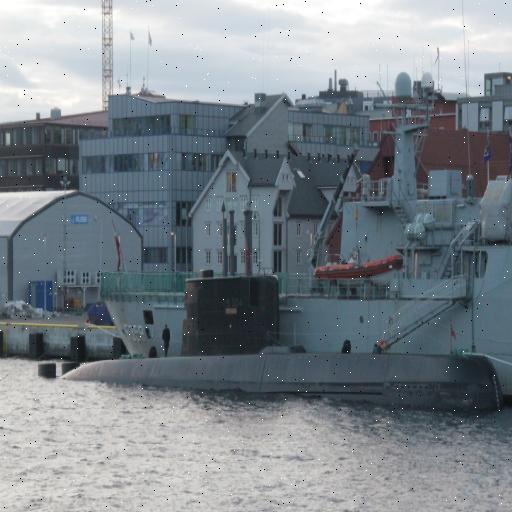submarine: (50, 197, 509, 409)
